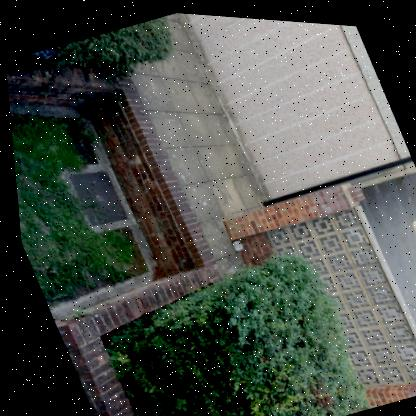Paper: (229, 236, 238, 247)
Plastic: (4, 44, 59, 75)
